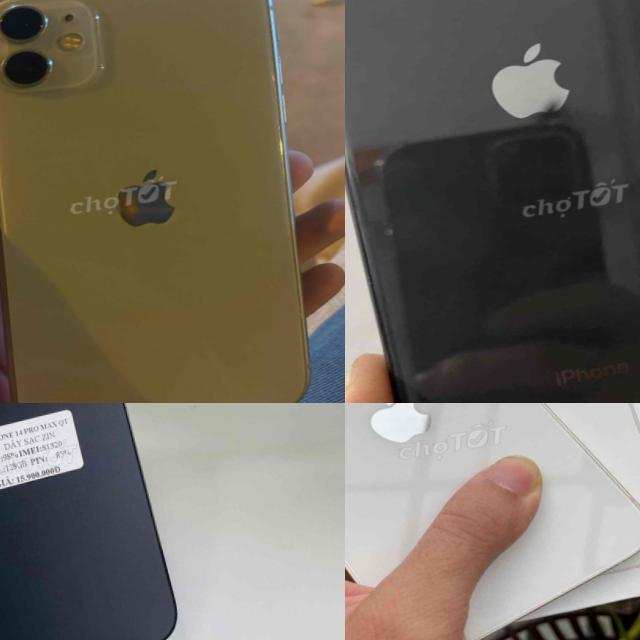scratch: (362, 148, 394, 174), (377, 218, 400, 243)
